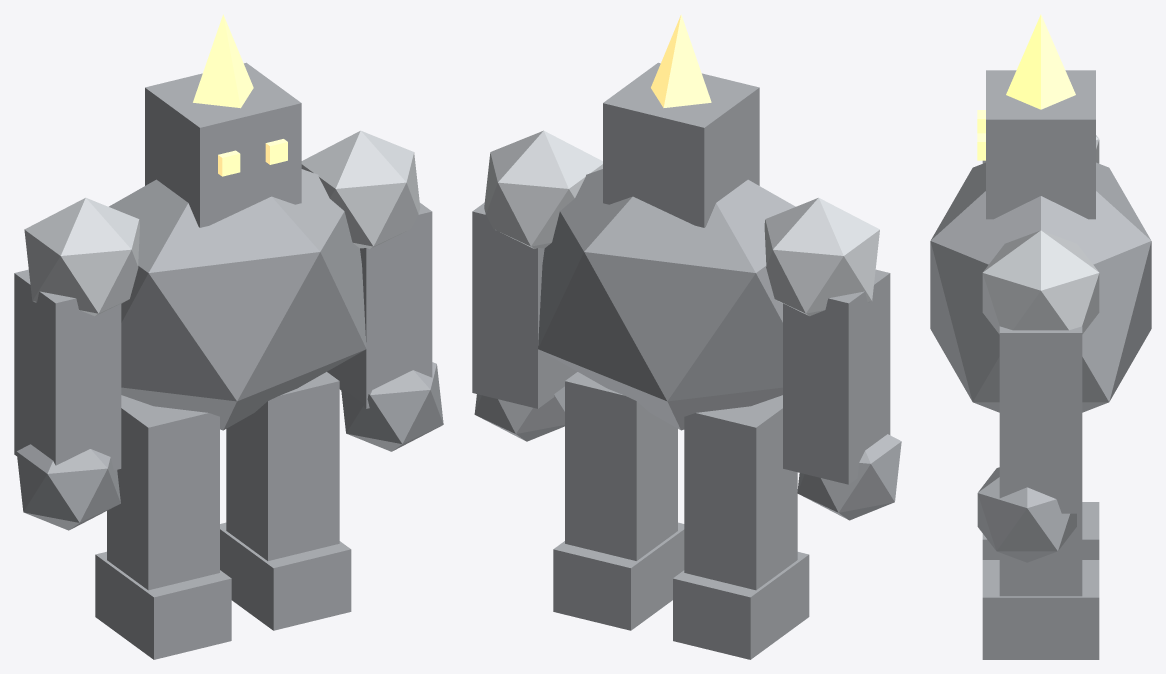
File: golem.glb
3 views of the same model, side by side, from view 1: azimuth 30°, elevation 25°; view 2: azimuth 150°, elevation 25°; view 3: azimuth 270°, elevation 25° (orthographic).
Visible parts, largest first — view 1: body.006, leg_l.008, leg_r.008, head.010, arm_l.008, arm_r.008, shoulder_l.003, foot_l.005, foot_r.005, shoulder_r.003, fist_l.002, fist_r.002 (+1 smaller); view 2: body.006, leg_l.008, arm_l.008, head.010, leg_r.008, arm_r.008, shoulder_l.003, foot_l.005, foot_r.005, shoulder_r.003, fist_l.002, crystal (+1 smaller); view 3: body.006, arm_r.008, head.010, shoulder_r.003, foot_r.005, fist_r.002, leg_r.008, crystal, foot_l.005.
Boxes of the visible parts, bbox=[...] form: body.006: bbox=[109, 169, 366, 430]; leg_l.008: bbox=[107, 395, 219, 590]; leg_r.008: bbox=[226, 372, 339, 560]; head.010: bbox=[145, 62, 301, 227]; arm_l.008: bbox=[14, 269, 121, 470]; arm_r.008: bbox=[327, 202, 432, 408]; shoulder_l.003: bbox=[24, 197, 139, 316]; foot_l.005: bbox=[95, 551, 231, 659]; foot_r.005: bbox=[220, 522, 351, 630]; shoulder_r.003: bbox=[301, 130, 420, 249]; fist_l.002: bbox=[16, 444, 120, 530]; fist_r.002: bbox=[341, 362, 443, 451]; body.006: bbox=[538, 169, 795, 430]; leg_l.008: bbox=[684, 395, 797, 590]; arm_l.008: bbox=[783, 269, 890, 484]; head.010: bbox=[603, 62, 759, 227]; leg_r.008: bbox=[565, 372, 677, 560]; arm_r.008: bbox=[472, 202, 577, 408]; shoulder_l.003: bbox=[764, 197, 879, 316]; foot_l.005: bbox=[673, 552, 809, 659]; foot_r.005: bbox=[553, 522, 684, 630]; shoulder_r.003: bbox=[484, 130, 602, 248]; fist_l.002: bbox=[797, 434, 901, 520]; crystal: bbox=[651, 14, 711, 107]; body.006: bbox=[930, 162, 1151, 412]; arm_r.008: bbox=[999, 326, 1082, 513]; head.010: bbox=[986, 70, 1095, 219]; shoulder_r.003: bbox=[982, 230, 1099, 334]; foot_r.005: bbox=[982, 560, 1099, 659]; fist_r.002: bbox=[977, 467, 1076, 562]; leg_r.008: bbox=[999, 513, 1082, 596]; crystal: bbox=[1006, 14, 1075, 109]; foot_l.005: bbox=[982, 502, 1099, 559].
Size of the model in its own units: 1.38 by 1.92 by 0.6431.
